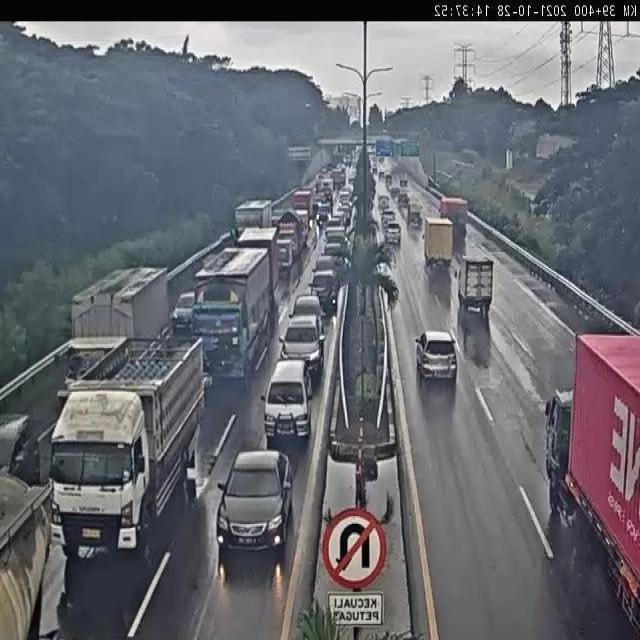Car: (215, 448, 293, 557), (0, 408, 45, 489), (278, 311, 326, 380), (416, 331, 457, 381), (290, 291, 328, 336), (307, 267, 340, 313), (170, 289, 196, 338), (311, 254, 343, 281), (320, 241, 346, 264), (315, 202, 332, 226), (385, 222, 401, 245), (379, 209, 396, 228), (377, 194, 390, 210)
Truck: (49, 330, 203, 564), (542, 327, 640, 640), (62, 264, 171, 392), (193, 244, 275, 389), (236, 226, 285, 306), (453, 253, 495, 315), (422, 215, 455, 267), (438, 196, 471, 242), (234, 200, 274, 233), (279, 209, 303, 256), (276, 236, 294, 279), (291, 189, 313, 216), (295, 208, 310, 242), (407, 202, 424, 230), (397, 192, 410, 210), (399, 169, 409, 186)
Van: (258, 358, 312, 442)
